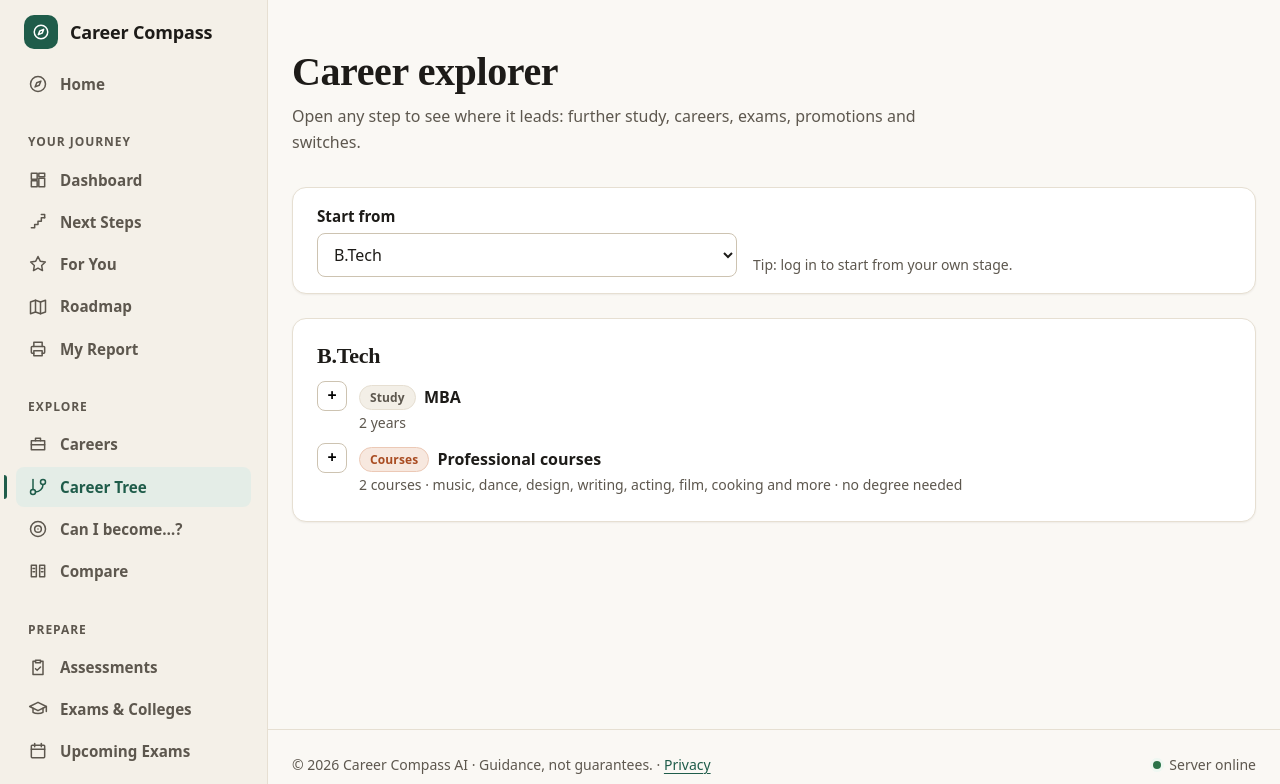
Test: Career explorer › puts all professional courses under one heading
Expected: the button named "Expand MBA" is shown, [317,381,347,411]
Click the button named "Expand Professional courses". click: (332, 458)
box: [317,443,347,473]
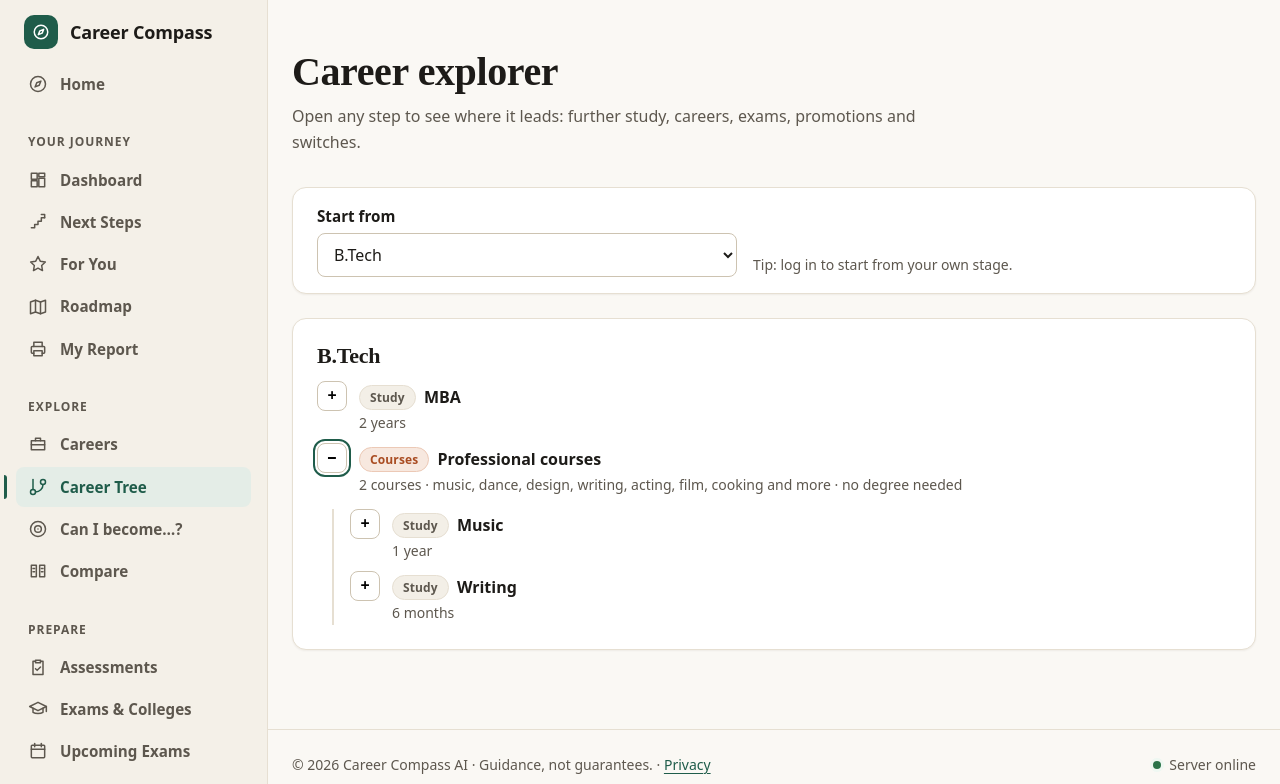
Expected: the text "Music" is shown, [457,514,504,536]
Expected: the text "1 year" is shown, [392,542,432,560]
Expected: the text "6 months" is shown, [392,603,454,622]
